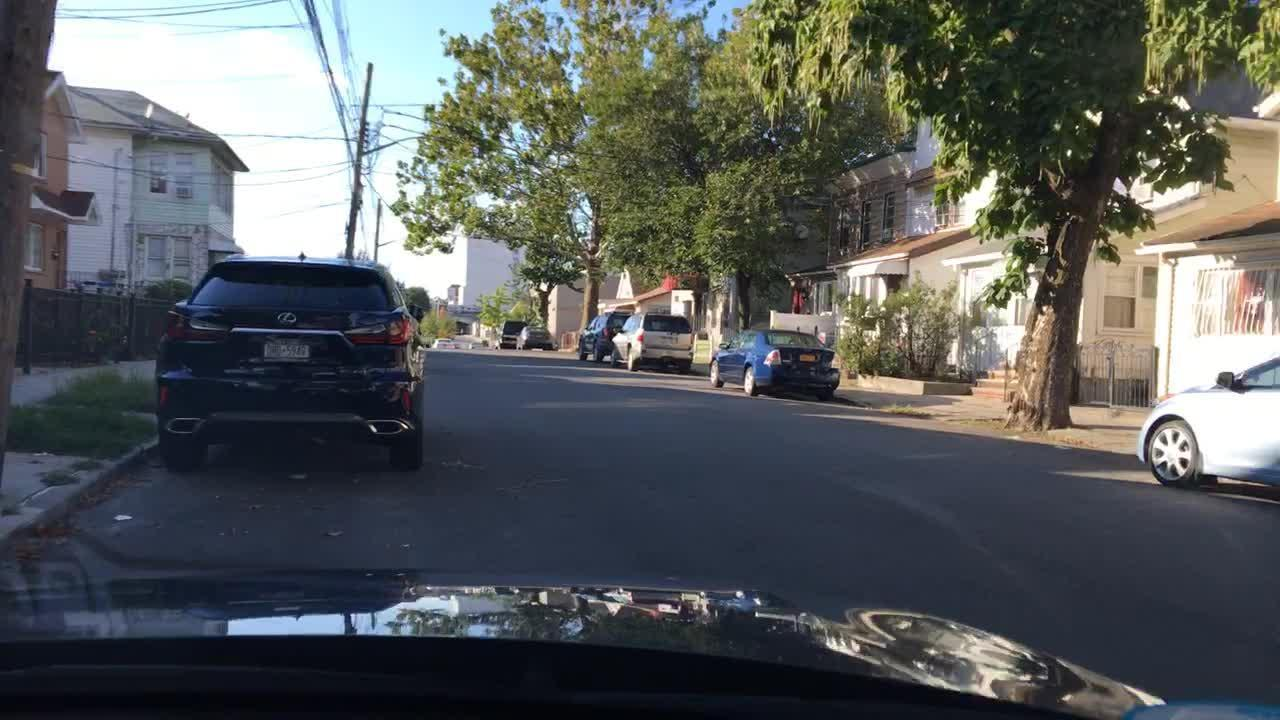lexus: (270, 306, 307, 332)
